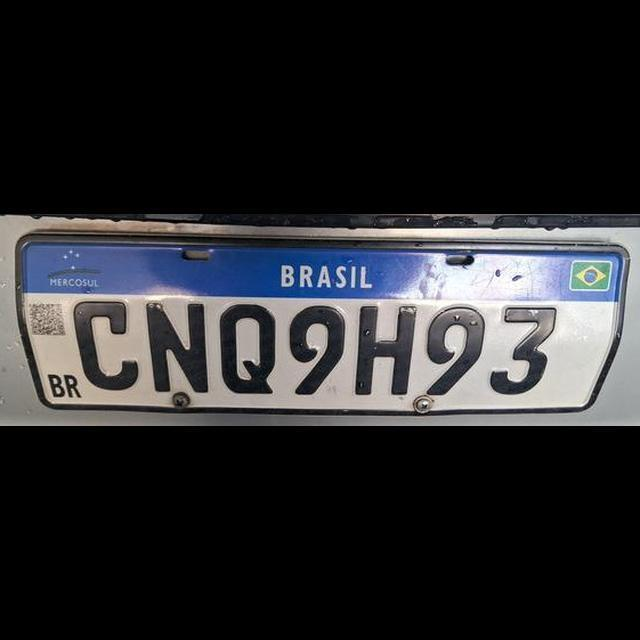Caractere: (141, 296, 211, 396), (71, 296, 139, 392), (489, 302, 558, 396), (356, 302, 420, 398), (424, 303, 488, 397), (285, 303, 347, 399), (218, 302, 278, 396)
Placa: (14, 232, 630, 420)
